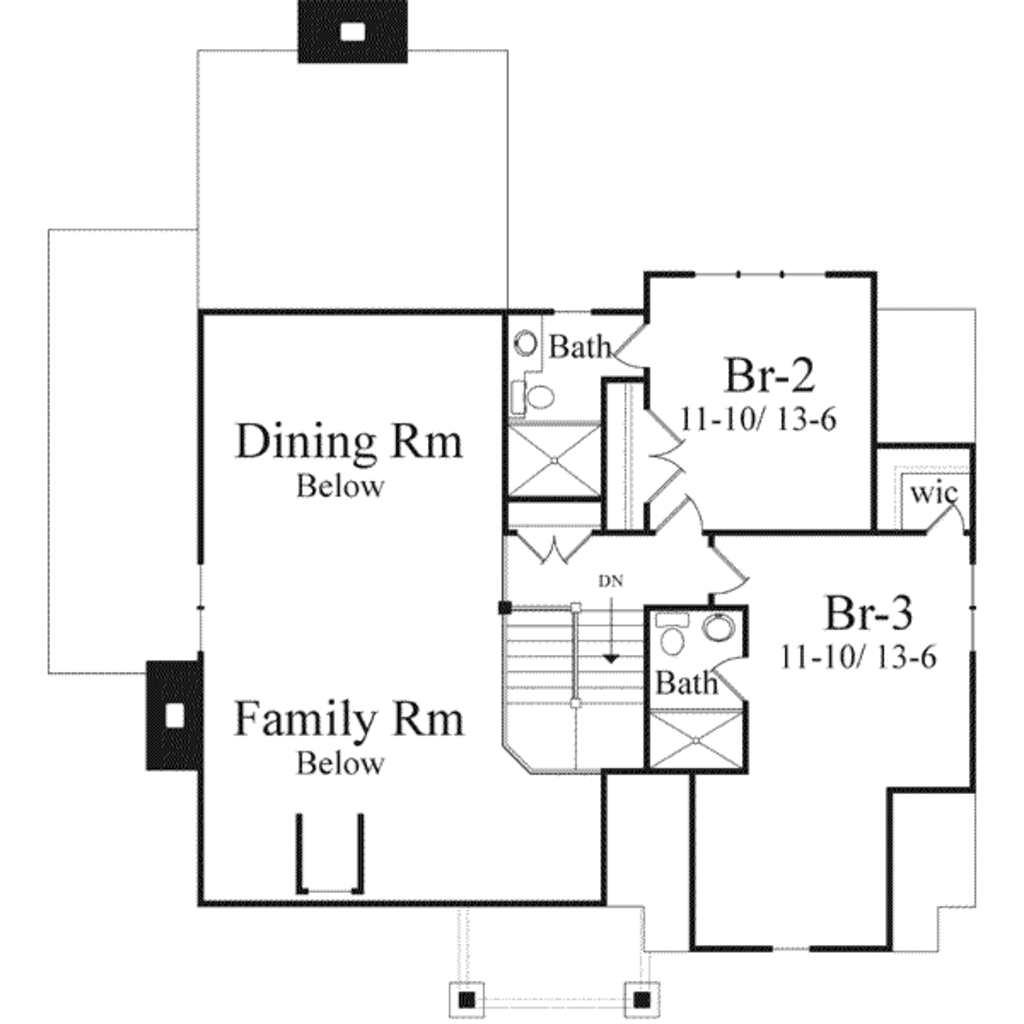door: (690, 535, 757, 608), (644, 401, 692, 497), (714, 652, 769, 711), (507, 528, 590, 566), (609, 316, 655, 381), (655, 492, 709, 536), (911, 493, 963, 532)
large_sink: (501, 374, 568, 422), (657, 608, 692, 655)
small_sink: (501, 303, 549, 371), (693, 605, 752, 655)
stairs: (507, 603, 646, 770)
window: (187, 563, 214, 668), (698, 265, 828, 282), (965, 563, 980, 657)
